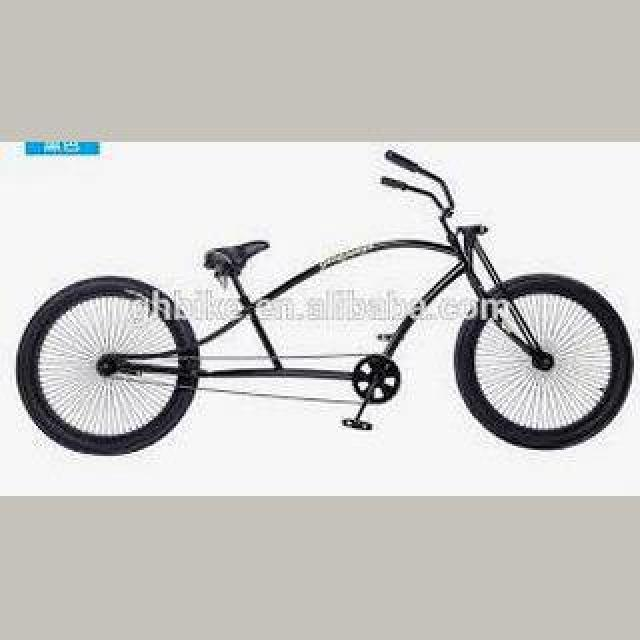Person: (17, 148, 635, 458)
